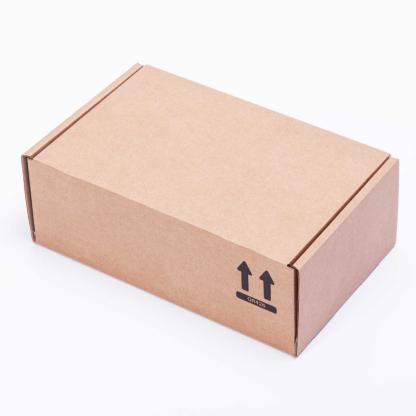box: (19, 59, 400, 359)
